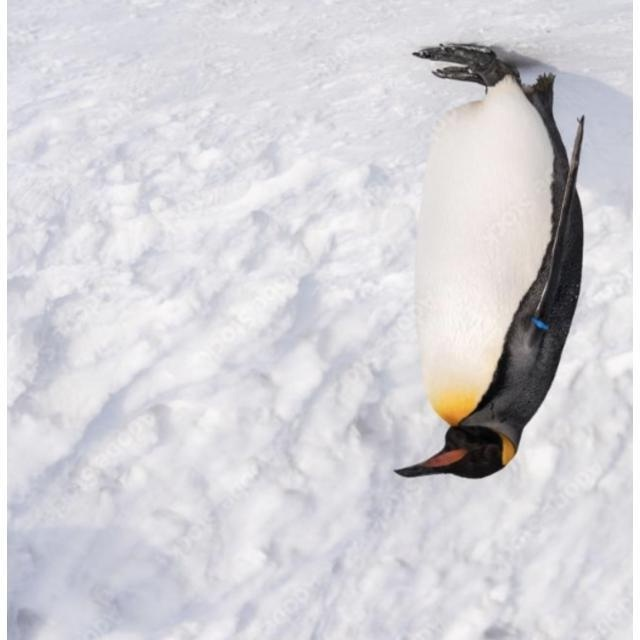penguin: (393, 43, 586, 480)
